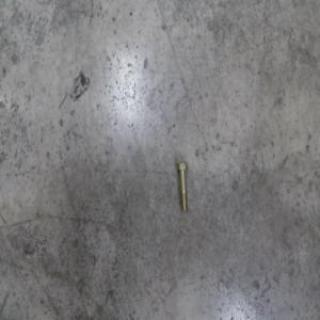Bolttrack_idkeyframe: (172, 160, 185, 212)
